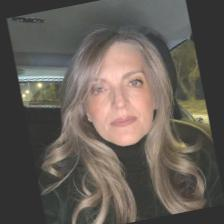Normal: (88, 48, 151, 144)
